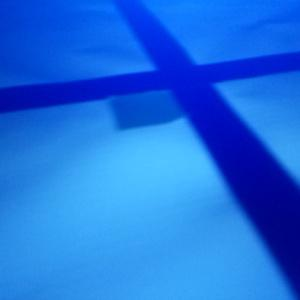bottom_left: (110, 74, 211, 128)
